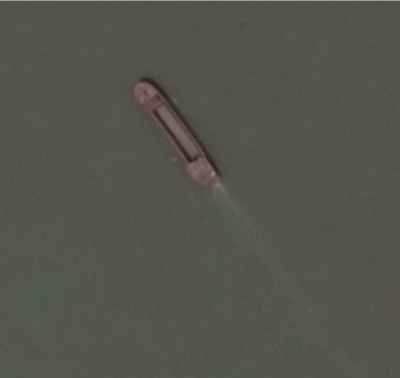boat: (133, 79, 219, 191)
